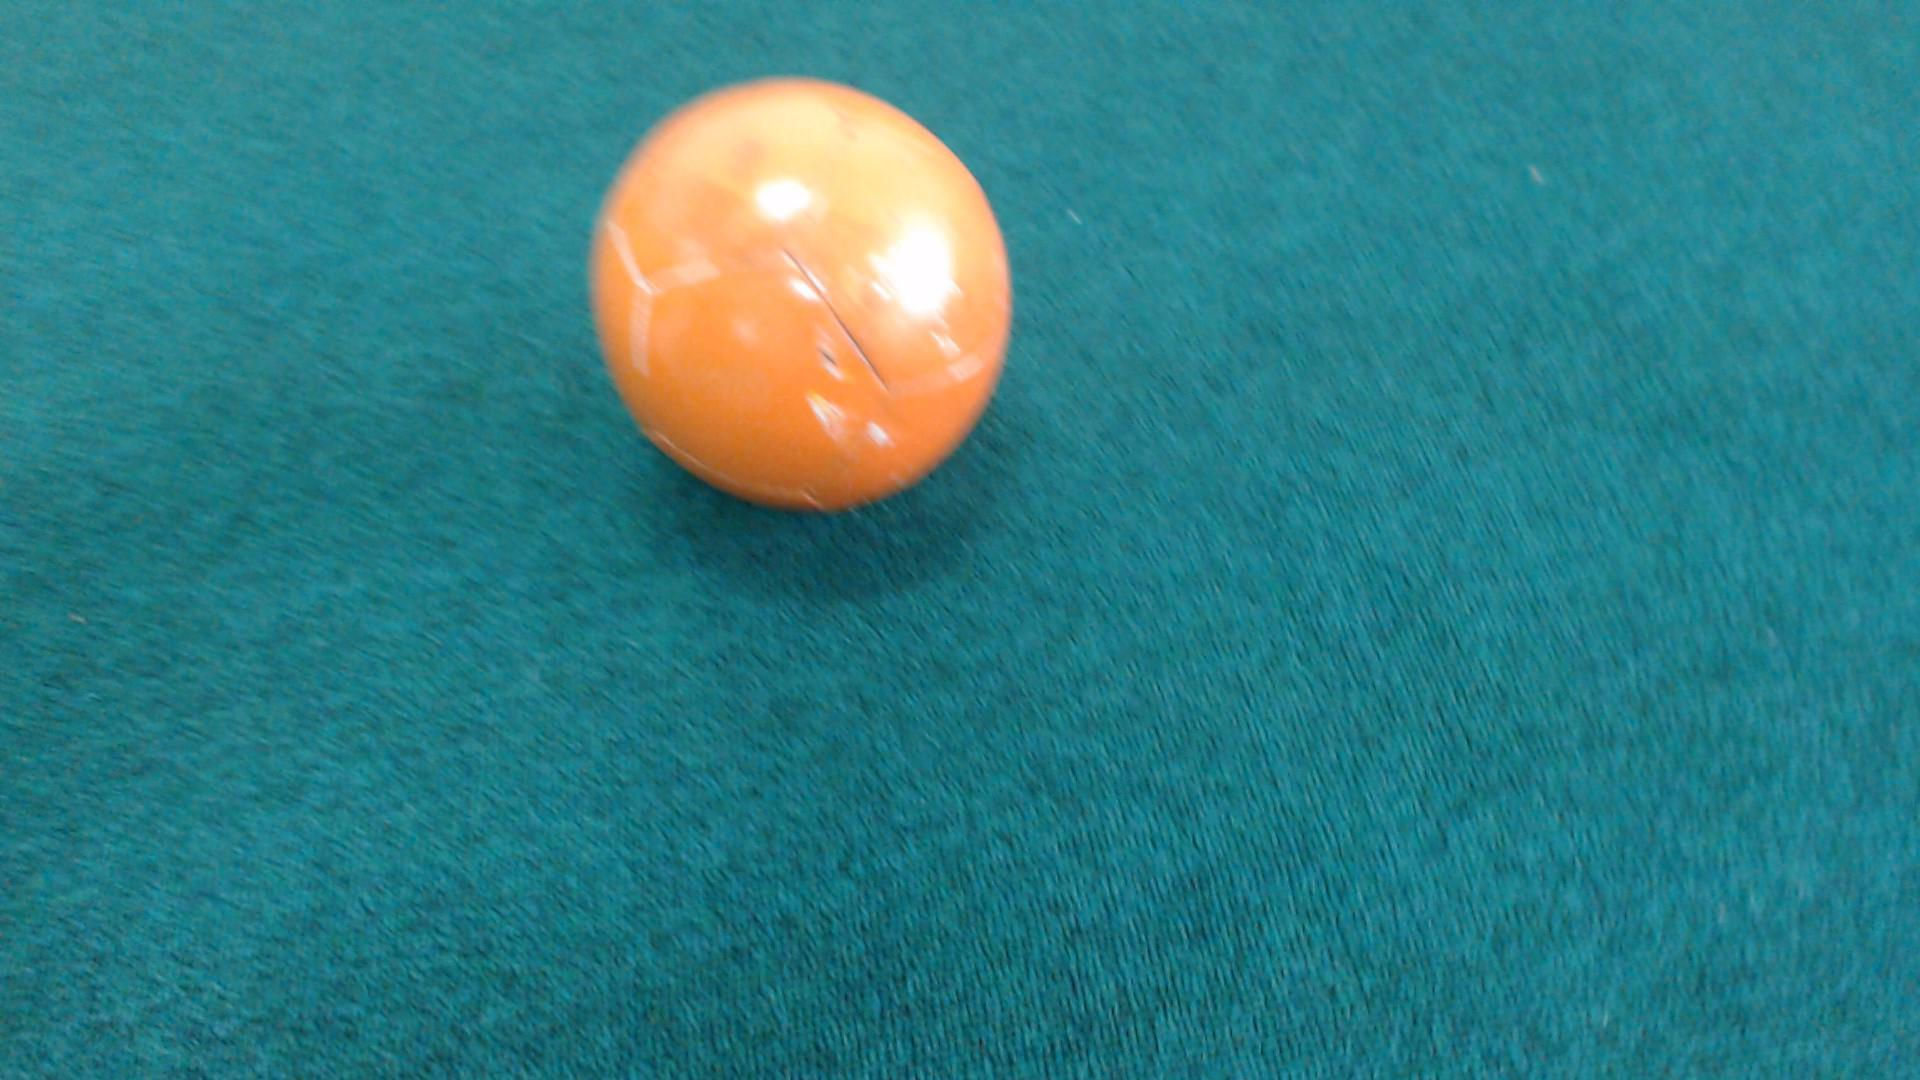bola: (564, 42, 1030, 542)
